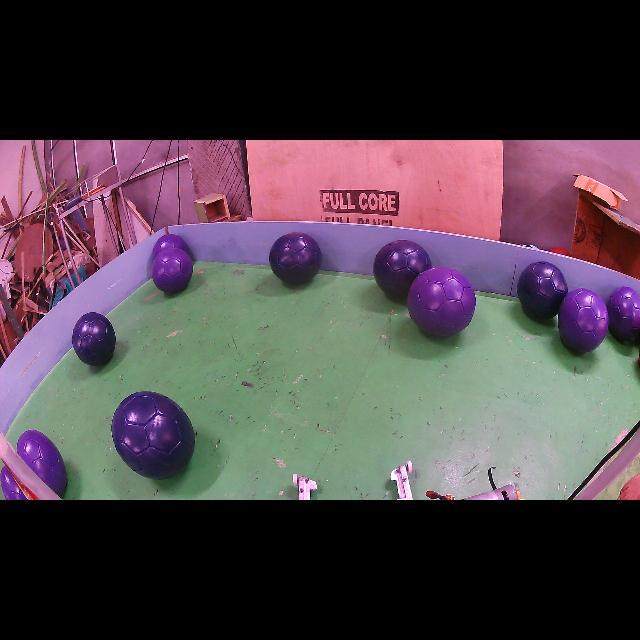B: (111, 391, 195, 479), (374, 240, 431, 300), (518, 261, 568, 319), (270, 232, 321, 284), (72, 312, 116, 365)
P: (408, 268, 476, 338), (16, 430, 68, 495), (558, 289, 609, 352), (608, 286, 640, 340), (152, 249, 192, 292), (0, 466, 26, 500), (152, 234, 188, 258)
